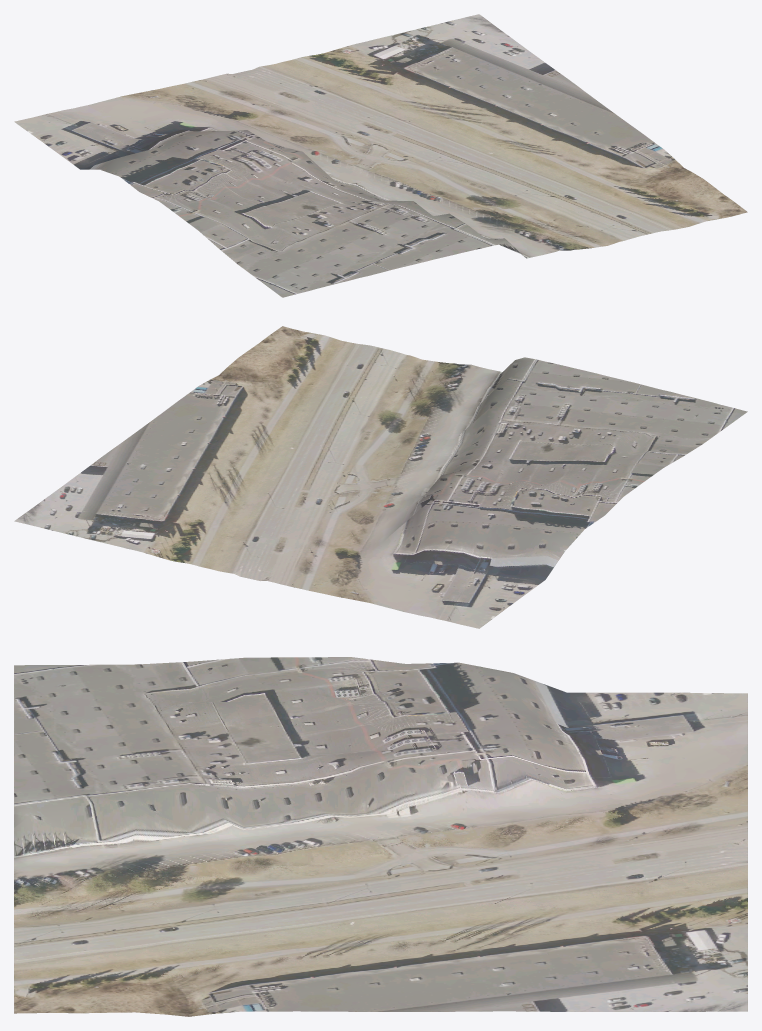
Rendered from CM_Terrain_24490458_6820204.fbx.
3 renders of one model, top to bottom at view 1: azimuth 30°, elevation 25°; view 2: azimuth 150°, elevation 25°; view 3: azimuth 270°, elevation 25°, orthographic. The views are drawn at different scales.
Parts seen in each view (by area): view 1: CM_Terrain_24490458_6820204_LOD0; view 2: CM_Terrain_24490458_6820204_LOD0; view 3: CM_Terrain_24490458_6820204_LOD0.
Part boxes in pixels (x1=…): CM_Terrain_24490458_6820204_LOD0: x1=14, y1=14, x2=747, y2=297; CM_Terrain_24490458_6820204_LOD0: x1=14, y1=326, x2=747, y2=628; CM_Terrain_24490458_6820204_LOD0: x1=14, y1=657, x2=747, y2=1016.
Size of what is drawn, in the model's own units: 205 by 15.5 by 205.
